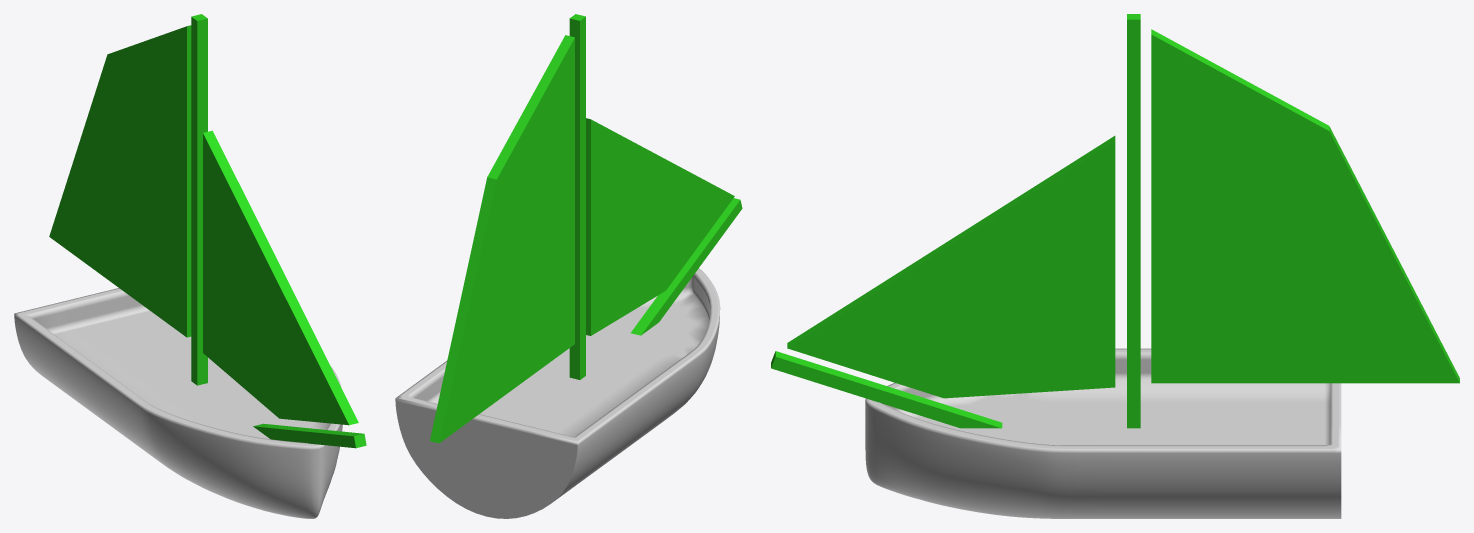
The model's file is boat_p3.glb.
3 views of the same model, side by side, from view 1: azimuth 30°, elevation 25°; view 2: azimuth 150°, elevation 25°; view 3: azimuth 270°, elevation 25° (orthographic). The views are drawn at different scales.
Parts seen in each view (by area): view 1: rigging, hull; view 2: rigging, hull; view 3: rigging, hull.
Boxes of the visible parts, x1,y1,x2,y2 form: rigging: (49,14,366,448); hull: (14,288,342,518); rigging: (430,14,742,443); hull: (395,268,720,518); rigging: (771,14,1459,428); hull: (865,348,1341,518).
Bounding box in the file's own units: 2.97 × 6.73 × 8.55.
